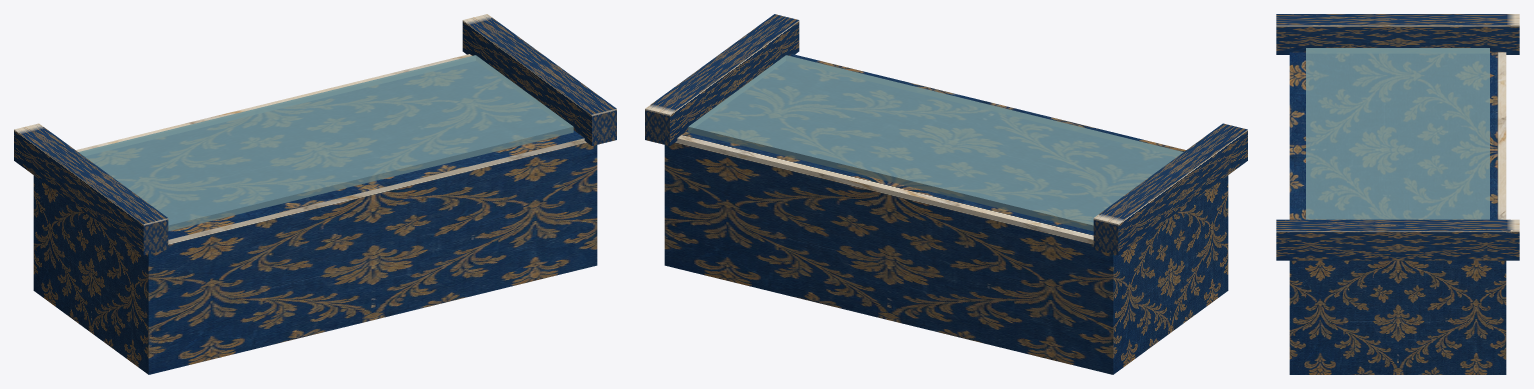
Rendered from bathtub.gltf.
3 renders of one model, left to right at view 1: azimuth 30°, elevation 25°; view 2: azimuth 150°, elevation 25°; view 3: azimuth 270°, elevation 25°, orthographic. The views are drawn at different scales.
Parts seen in each view (by area): view 1: kit:0:furniture:marble:, kit:0:furniture:water:; view 2: kit:0:furniture:marble:, kit:0:furniture:water:; view 3: kit:0:furniture:marble:, kit:0:furniture:water:.
Part boxes in pixels (<box>): kit:0:furniture:marble:: <box>14,14,616,374</box>; kit:0:furniture:water:: <box>78,55,573,231</box>; kit:0:furniture:marble:: <box>645,14,1247,374</box>; kit:0:furniture:water:: <box>688,55,1183,231</box>; kit:0:furniture:marble:: <box>1276,14,1519,374</box>; kit:0:furniture:water:: <box>1306,48,1489,219</box>.
Bounding box in the file's own units: 1.9 × 0.61 × 0.9.
Materials: 2 (1 with a texture image).
